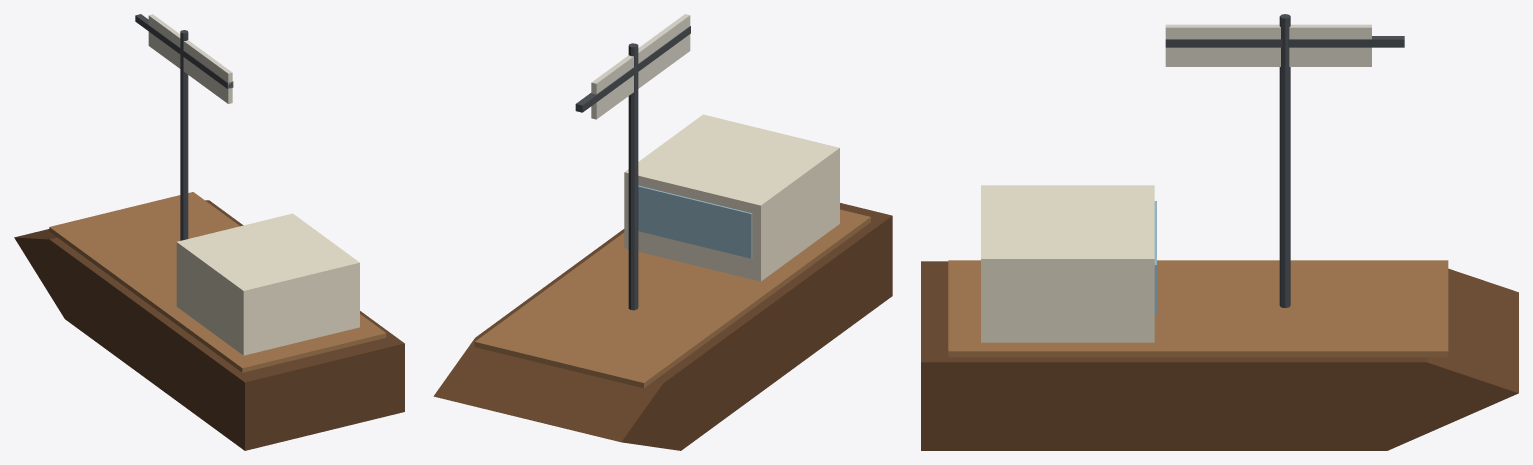
Rendered from marine.fishing-boat.glb.
3 views of the same model, side by side, from view 1: azimuth 30°, elevation 25°; view 2: azimuth 150°, elevation 25°; view 3: azimuth 270°, elevation 25° (orthographic). The views are drawn at different scales.
Visible parts, largest first — view 1: marine.fishing-boat; view 2: marine.fishing-boat; view 3: marine.fishing-boat.
Part boxes in pixels (box(x1,y1,x2,y2)): marine.fishing-boat: box(14, 14, 404, 450); marine.fishing-boat: box(433, 14, 892, 450); marine.fishing-boat: box(921, 14, 1518, 450).
Bounding box in the file's own units: 2.2 × 3.9 × 5.5.
